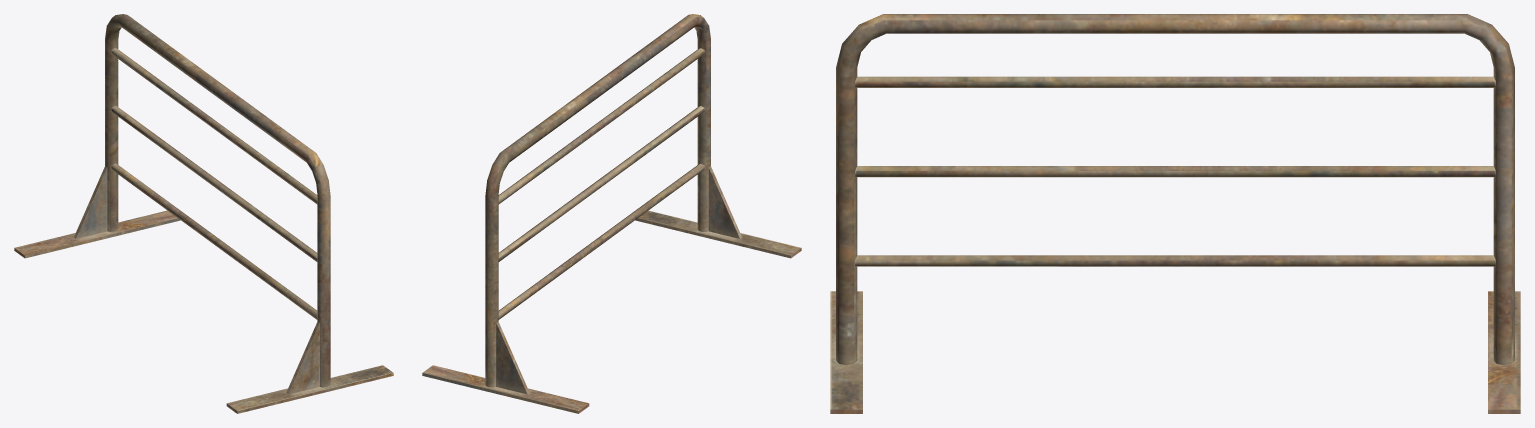
The model's file is fence_4.fbx.
3 views of the same model, side by side, from view 1: azimuth 30°, elevation 25°; view 2: azimuth 150°, elevation 25°; view 3: azimuth 270°, elevation 25° (orthographic). The views are drawn at different scales.
Visible parts, largest first — view 1: var1_3; view 2: var1_3; view 3: var1_3.
Part boxes in pixels (x1,y1,x2,y2): var1_3: [14, 14, 393, 413]; var1_3: [422, 14, 801, 413]; var1_3: [830, 14, 1520, 413].
Size of the model in its own units: 70.83 by 98.14 by 175.
1 material, 1 textured.
